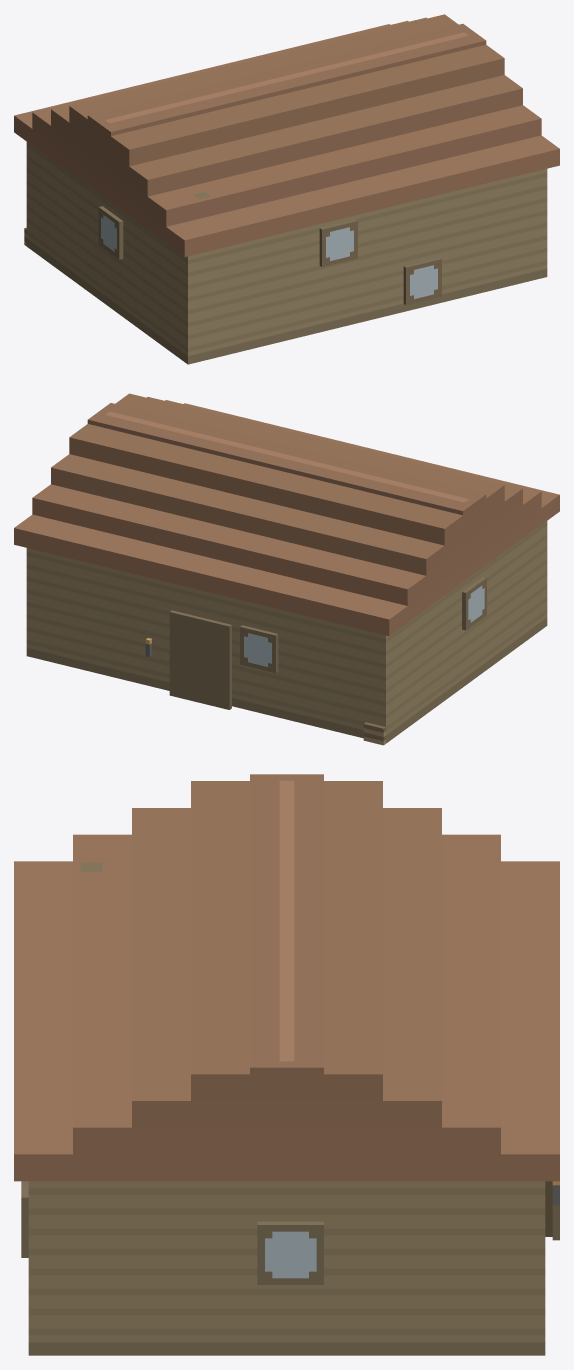
File: taller_picapedrero_03.glb
3 views of the same model, one above another, from view 1: azimuth 30°, elevation 25°; view 2: azimuth 150°, elevation 25°; view 3: azimuth 270°, elevation 25° (orthographic). The views are drawn at different scales.
Parts seen in each view (by area): view 1: taller_picapedrero_03; view 2: taller_picapedrero_03; view 3: taller_picapedrero_03.
Boxes of the visible parts, box(x1,y1,x2,y2) form: taller_picapedrero_03: box(14, 14, 559, 364); taller_picapedrero_03: box(14, 393, 559, 745); taller_picapedrero_03: box(14, 774, 559, 1355).
Bounding box in the file's own units: 9.4 × 4.4 × 7.4.
